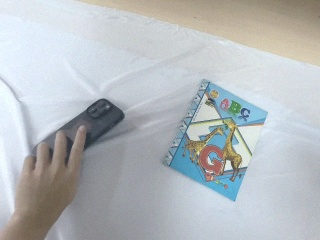book: (162, 79, 268, 202)
phone: (33, 98, 126, 167)
